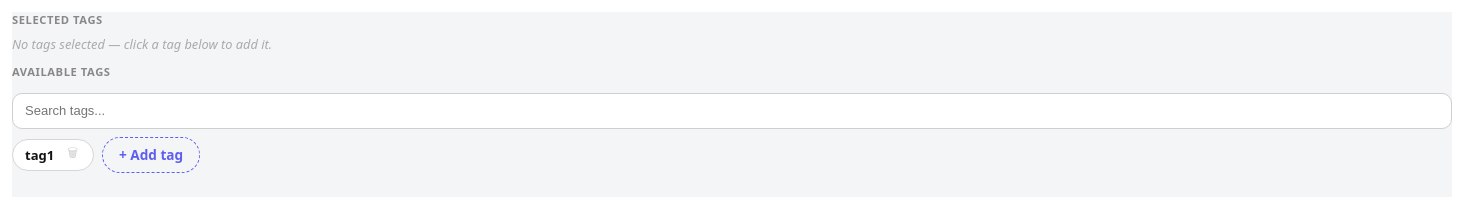
Test: remove from unselected tags
This screenshot has width=1464, height=214.
Step 1. Click the button titled "Delete tag permanently" → click(73, 155), box [58, 144, 87, 166]
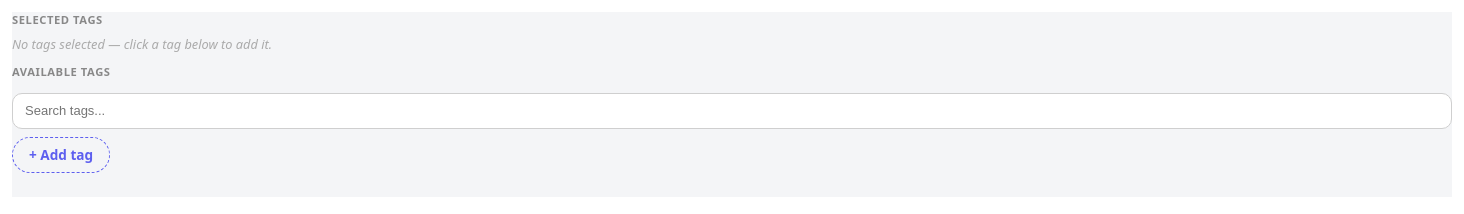
Expected: the button "tag1" is gone
